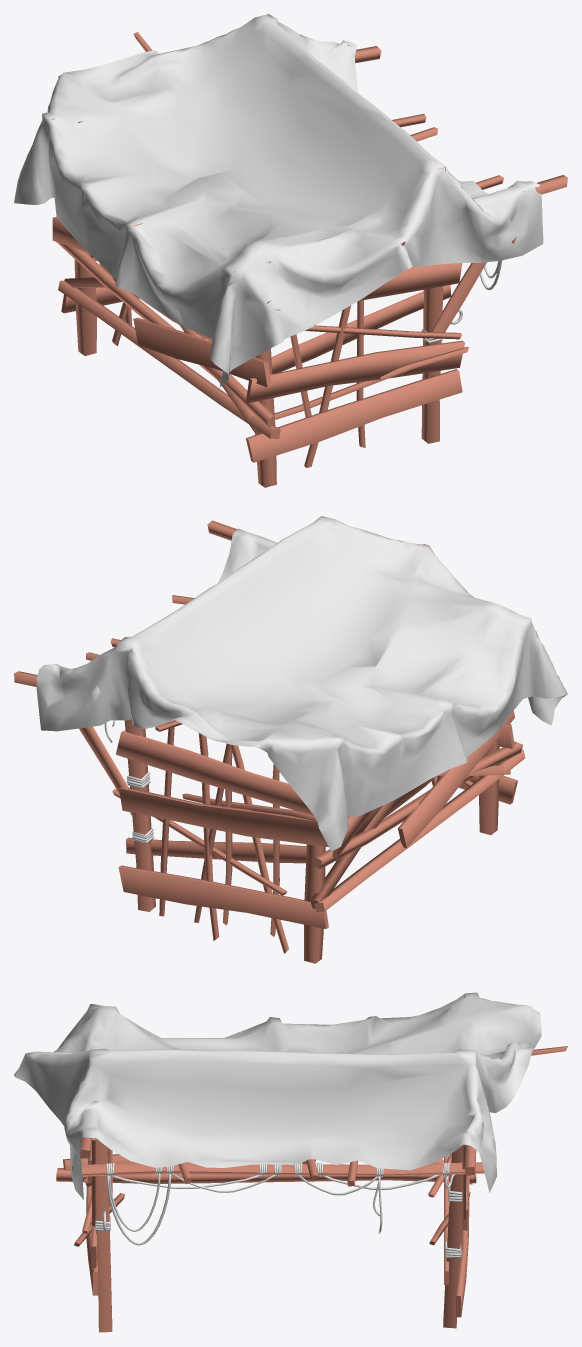
The model's file is booth.fbx.
The picture shows the model from 3 angles, top to bottom: view 1: azimuth 30°, elevation 25°; view 2: azimuth 150°, elevation 25°; view 3: azimuth 270°, elevation 25°; orthographic projection. The views are drawn at different scales.
Parts seen in each view (by area): view 1: Plane.066, Cube.218; view 2: Plane.066, Cube.218; view 3: Plane.066, Cube.218, Cube.219.
Boxes of the visible parts, <box> form: Plane.066: <box>14,14,543,387</box>; Cube.218: <box>51,32,567,487</box>; Plane.066: <box>36,516,567,851</box>; Cube.218: <box>14,520,525,963</box>; Plane.066: <box>14,992,541,1199</box>; Cube.218: <box>25,995,567,1332</box>; Cube.219: <box>94,1162,466,1257</box>.
Bounding box in the file's own units: 5.02 × 3.83 × 6.62.
